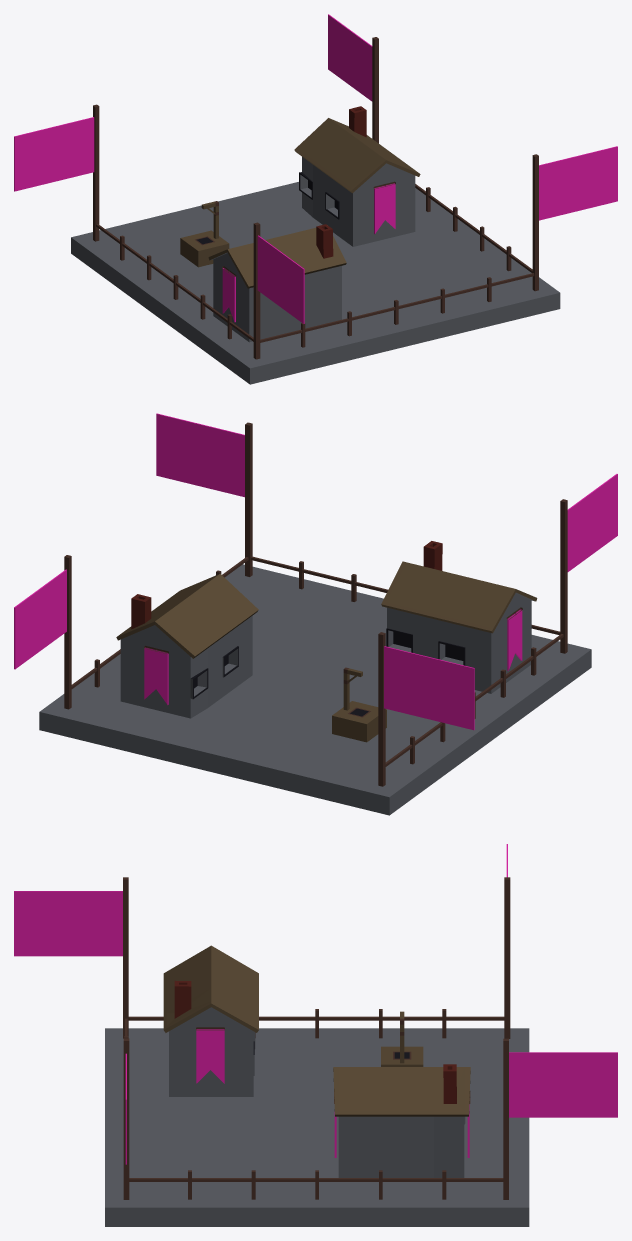
File: updatedCastleLV1.fbx
The picture shows the model from 3 angles, top to bottom: view 1: azimuth 30°, elevation 25°; view 2: azimuth 150°, elevation 25°; view 3: azimuth 270°, elevation 25°; orthographic projection. The views are drawn at different scales.
Parts seen in each view (by area): view 1: Castle; view 2: Castle; view 3: Castle.
Part boxes in pixels (bbox=[...]): Castle: bbox=[14, 14, 617, 384]; Castle: bbox=[14, 413, 617, 815]; Castle: bbox=[14, 844, 617, 1226].
Size of the model in its own units: 2853 by 928 by 2848.
